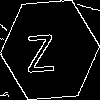Z: (25, 25, 55, 73)
